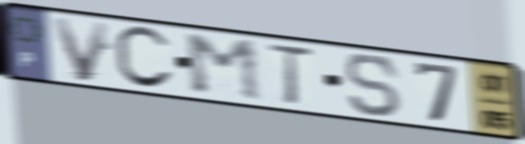7: (411, 59, 464, 126)
C: (111, 24, 178, 92)
M: (181, 32, 267, 105)
S: (342, 52, 404, 120)
T: (262, 41, 318, 108)
V: (47, 15, 114, 85)
